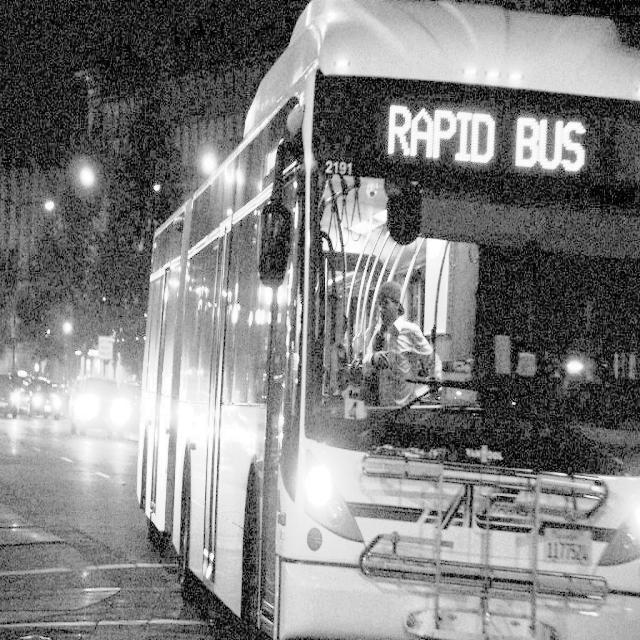Bus: (122, 3, 640, 640)
Car: (70, 362, 120, 450), (23, 360, 69, 446), (0, 346, 33, 450)
